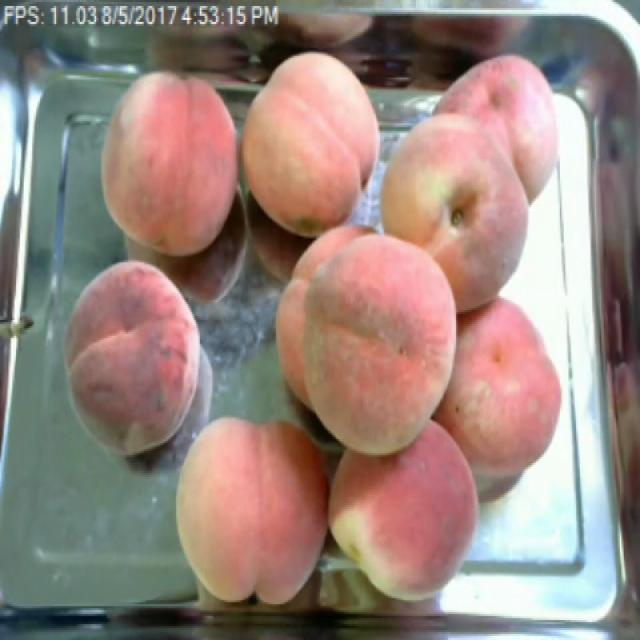Fruit: (369, 38, 575, 320), (261, 211, 475, 471), (166, 404, 342, 614), (323, 410, 492, 612), (54, 251, 210, 465), (238, 40, 394, 248), (93, 62, 248, 262), (426, 288, 578, 489)
